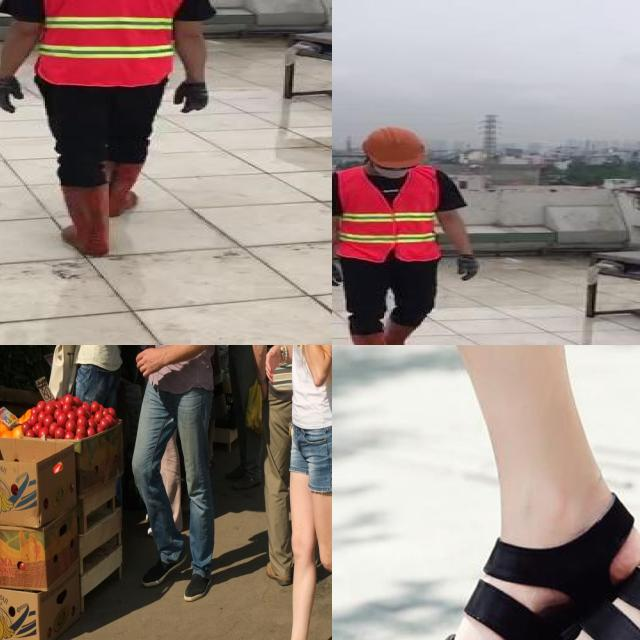Sandals: (468, 524, 640, 640)
boots: (58, 184, 112, 260), (104, 162, 142, 221), (385, 318, 421, 345), (350, 333, 392, 345)
hand_glove: (174, 80, 208, 112), (0, 77, 23, 114), (455, 253, 482, 281), (332, 261, 343, 285)
head_helmet: (358, 126, 428, 170)
person: (0, 0, 223, 267), (332, 126, 487, 345)
vest: (36, 0, 183, 87), (336, 167, 444, 262)
